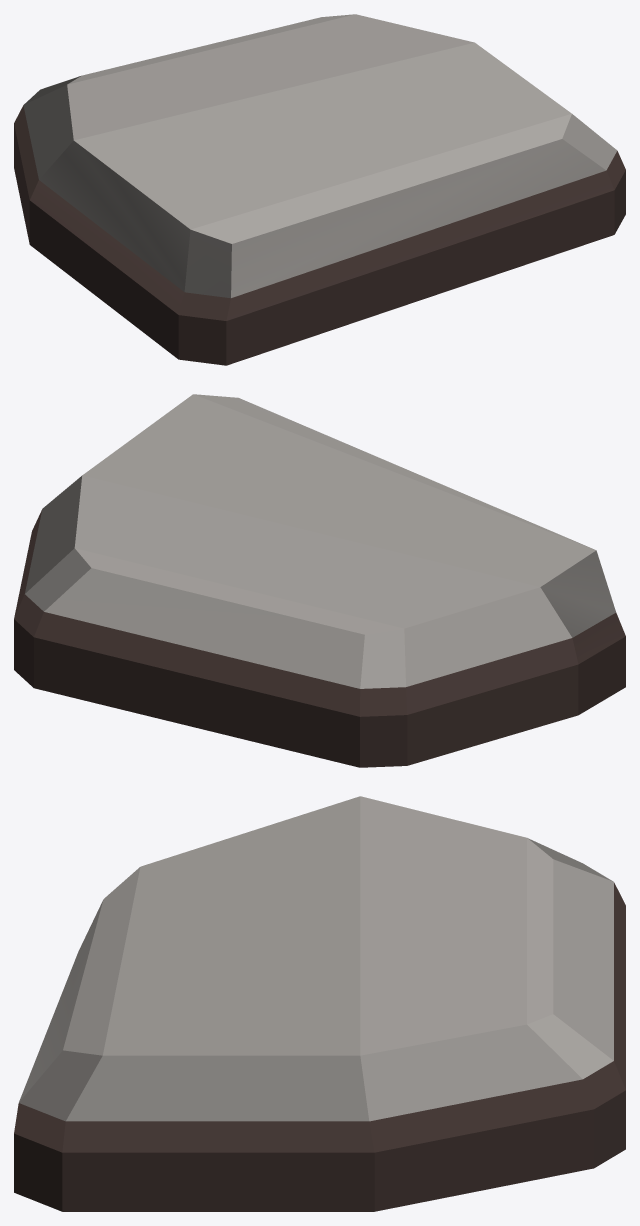
The model's file is SM_Prop_Chair_01.003.obj.
The picture shows the model from 3 angles, top to bottom: view 1: azimuth 30°, elevation 25°; view 2: azimuth 150°, elevation 25°; view 3: azimuth 270°, elevation 25°; orthographic projection. The views are drawn at different scales.
Parts seen in each view (by area): view 1: SM_Prop_Chair_01.003_0; view 2: SM_Prop_Chair_01.003_0; view 3: SM_Prop_Chair_01.003_0.
Boxes of the visible parts, x1,y1,x2,y2 form: SM_Prop_Chair_01.003_0: (14, 14, 625, 365); SM_Prop_Chair_01.003_0: (14, 394, 625, 767); SM_Prop_Chair_01.003_0: (14, 796, 625, 1211).
Bounding box in the file's own units: 0.5781 × 0.1813 × 0.483.
1 material, 1 textured.
